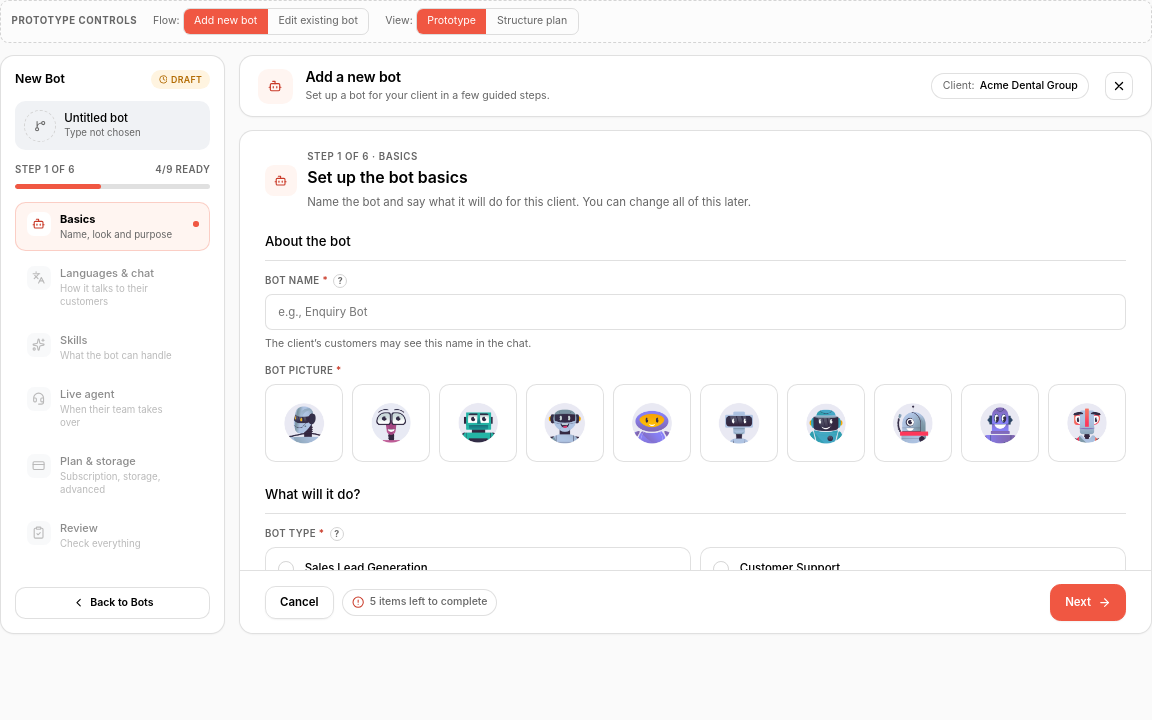
wizard accessibility › ties a field error to its input
Click the button "Next". click: (1088, 602)
box: [1050, 584, 1126, 621]
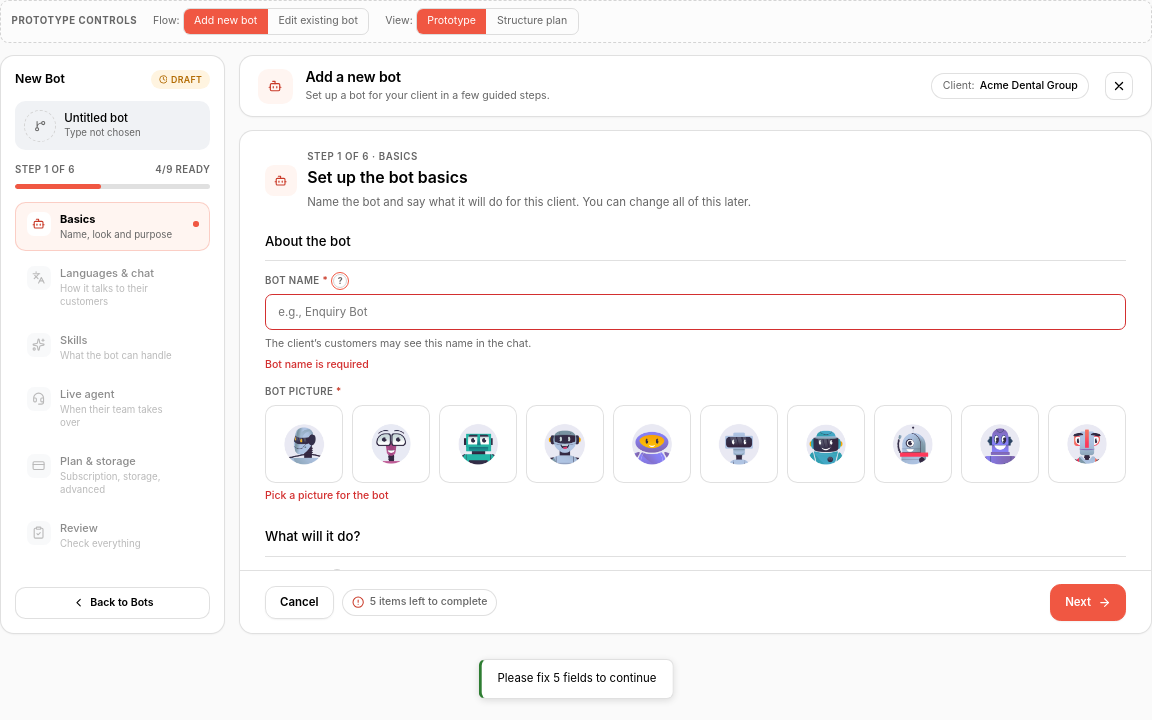
Now the message with id "f-name-err" reads "Bot name is required", box [265, 358, 369, 371]
